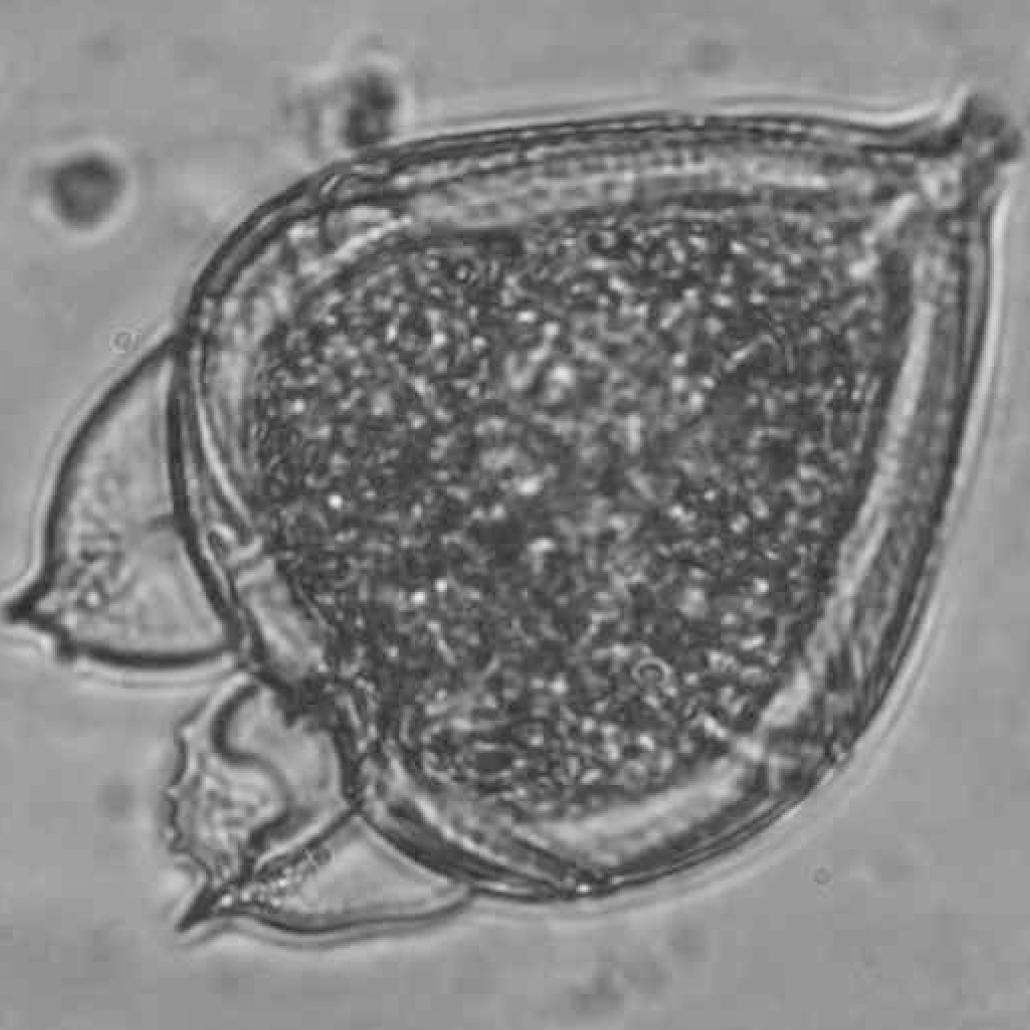podolampas_bipes: (8, 83, 1020, 932)
